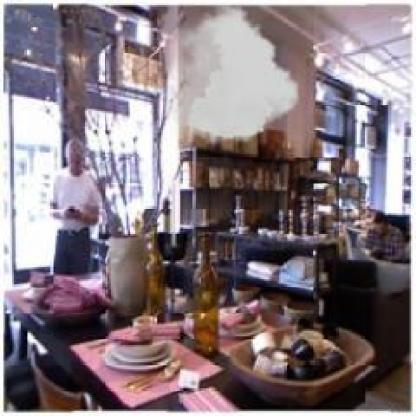Smoke: (167, 5, 299, 146)
